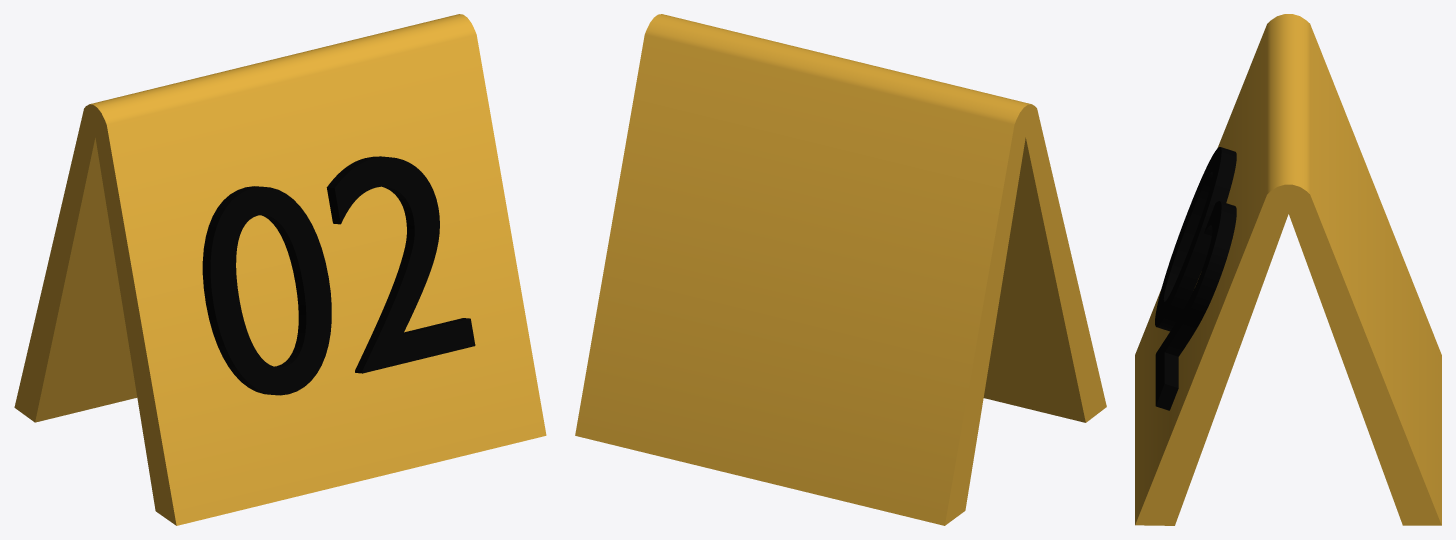
3 views of the same model, side by side, from view 1: azimuth 30°, elevation 25°; view 2: azimuth 150°, elevation 25°; view 3: azimuth 270°, elevation 25° (orthographic). The views are drawn at different scales.
Parts seen in each view (by area): view 1: Bordje, Text.001; view 2: Bordje; view 3: Bordje, Text.001.
Boxes of the visible parts, x1,y1,x2,y2 form: Bordje: (14, 14, 546, 525); Text.001: (202, 156, 475, 395); Bordje: (575, 14, 1106, 525); Bordje: (1135, 14, 1441, 525); Text.001: (1155, 147, 1236, 410).
Size of the model in its own units: 342 by 319 by 260.
